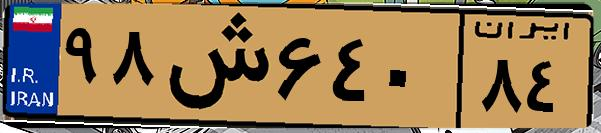0: (385, 28, 445, 110)
4: (330, 28, 385, 110), (525, 38, 570, 115)
6: (270, 28, 330, 110)
8: (475, 38, 525, 113), (110, 28, 158, 98)
9: (57, 26, 110, 100)
ش: (158, 12, 270, 120)
